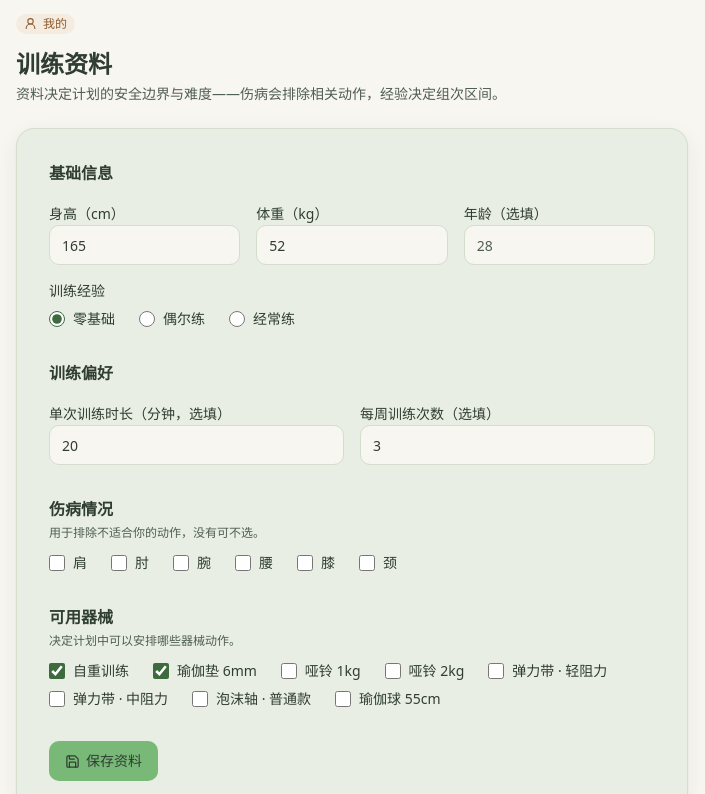
Scenario: ProfilePage › saves the profile and sends the full validated payload
Click the button "保存资料".
click(104, 761)  # box [49,741,158,781]
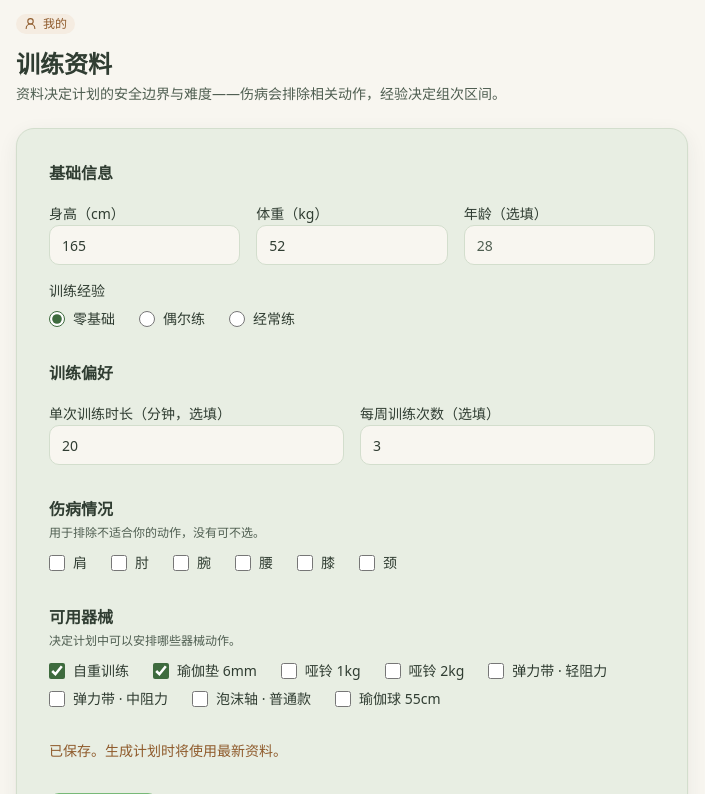
Expected: the message shows "已保存", [49,741,287,760]
